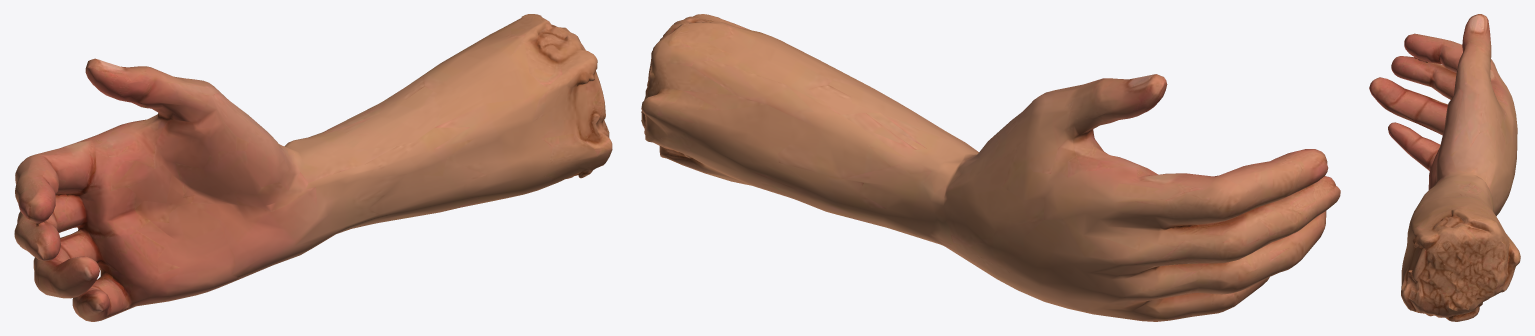
Rendered from forearm.glb.
3 renders of one model, left to right at view 1: azimuth 30°, elevation 25°; view 2: azimuth 150°, elevation 25°; view 3: azimuth 270°, elevation 25°, orthographic. The views are drawn at different scales.
Parts seen in each view (by area): view 1: Mesh_0; view 2: Mesh_0; view 3: Mesh_0.
Part boxes in pixels (bbox=[...]): Mesh_0: bbox=[14, 14, 612, 321]; Mesh_0: bbox=[641, 14, 1340, 321]; Mesh_0: bbox=[1369, 14, 1520, 321].
Size of the model in its own units: 1.9 by 0.7345 by 0.5769.
Materials: 1 (1 with a texture image).
